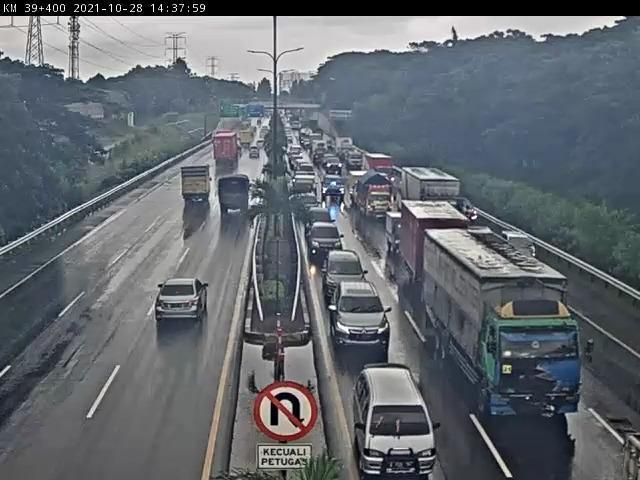car: (342, 348, 446, 480), (328, 275, 388, 347), (144, 291, 204, 357), (318, 244, 368, 312), (305, 214, 349, 270), (484, 218, 530, 258), (380, 208, 406, 252), (320, 170, 344, 208)
truck: (441, 277, 605, 453), (213, 175, 253, 227), (359, 172, 399, 223), (171, 161, 213, 207)
